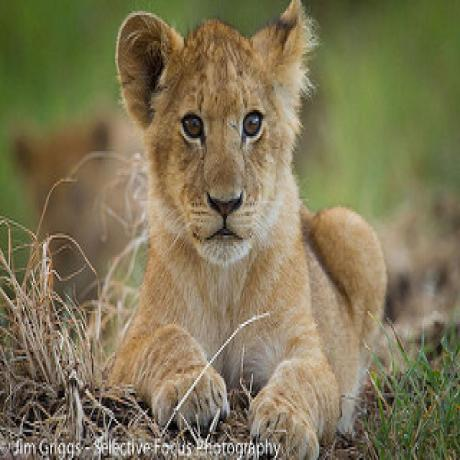Lion: (108, 0, 386, 459)
